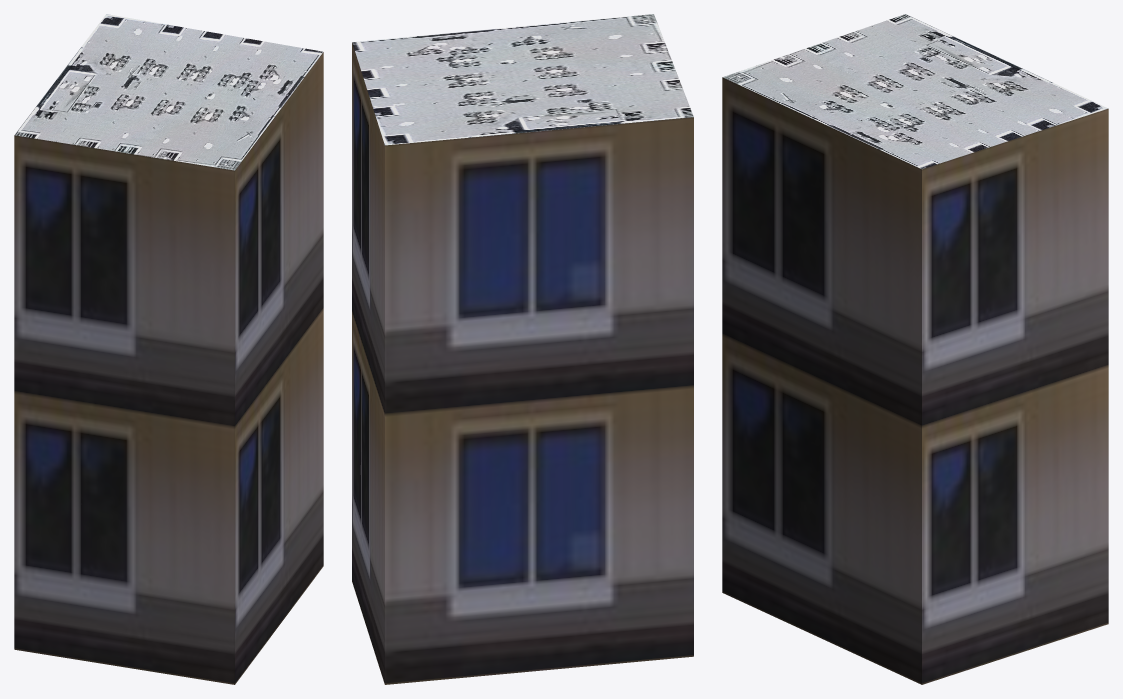
The model's file is ResTex__3154.fbx.
The picture shows the model from 3 angles, left to right: view 1: azimuth 30°, elevation 25°; view 2: azimuth 150°, elevation 25°; view 3: azimuth 270°, elevation 25°; orthographic projection. The views are drawn at different scales.
Visible parts, largest first — view 1: CityEngineMaterial_5_m, CityEngineMaterial_8_m; view 2: CityEngineMaterial_5_m, CityEngineMaterial_8_m; view 3: CityEngineMaterial_5_m, CityEngineMaterial_8_m.
Part boxes in pixels (bbox=[...]): CityEngineMaterial_5_m: bbox=[14, 52, 323, 684]; CityEngineMaterial_8_m: bbox=[14, 14, 323, 170]; CityEngineMaterial_5_m: bbox=[352, 42, 693, 684]; CityEngineMaterial_8_m: bbox=[352, 14, 693, 145]; CityEngineMaterial_5_m: bbox=[722, 77, 1108, 684]; CityEngineMaterial_8_m: bbox=[723, 14, 1107, 169].
Bounding box in the file's own units: 3.88 × 6 × 4.07.
2 materials, 2 textured.
